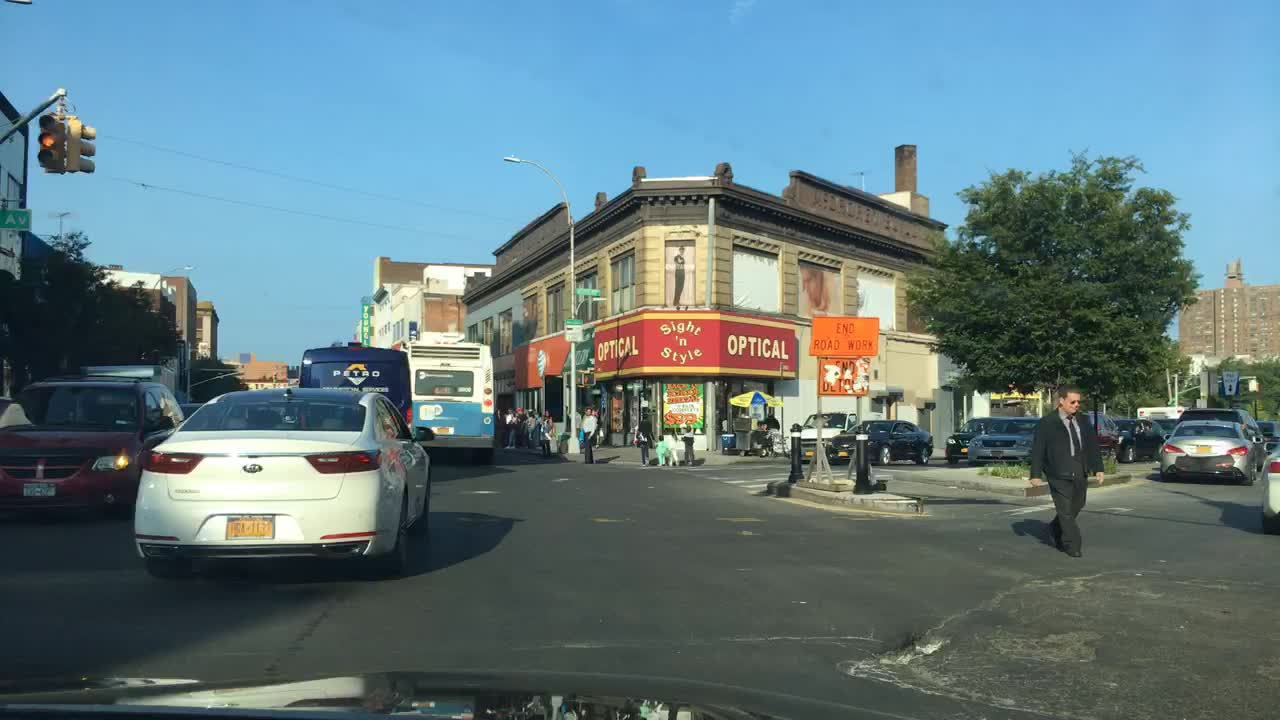bike: (752, 437, 796, 460)
bus: (394, 333, 500, 466)
car: (133, 384, 436, 585), (0, 372, 186, 529), (293, 343, 412, 435), (1156, 418, 1256, 485), (1173, 405, 1268, 467), (827, 417, 936, 465), (969, 413, 1045, 469), (792, 412, 859, 463), (1100, 418, 1171, 465), (946, 413, 1001, 465), (1080, 413, 1117, 461), (1259, 445, 1278, 538), (1135, 405, 1183, 422), (1255, 416, 1276, 453), (177, 400, 210, 419)
person: (1028, 380, 1101, 558), (581, 408, 597, 466), (636, 413, 652, 466), (651, 434, 673, 468), (539, 409, 553, 457), (683, 425, 699, 467), (494, 408, 509, 446), (667, 429, 680, 466), (505, 409, 518, 443), (591, 407, 601, 446), (516, 409, 526, 446), (568, 408, 580, 437), (537, 410, 544, 443)
rider: (757, 411, 782, 439)
traffic light: (35, 112, 65, 175), (67, 117, 95, 177), (1249, 377, 1258, 392)
traffic sign: (808, 314, 878, 359), (815, 355, 868, 399), (1, 204, 34, 235), (564, 318, 585, 342), (1198, 373, 1217, 395), (574, 286, 600, 296), (1195, 396, 1213, 409)
truck: (77, 360, 178, 394)
